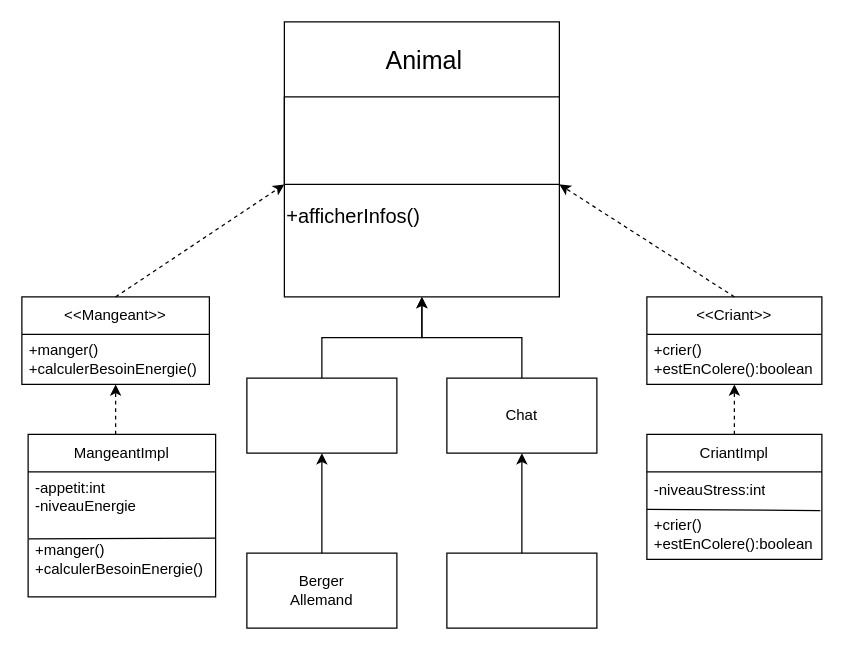
Image size: 844x650. Some labels were removed from this diagram. Each missing label, with the centre of its shape:
"-nom:String -age:int" goes at pixel 421 140.
"Chien" goes at pixel 321 415.
"Siamois" goes at pixel 521 590.
